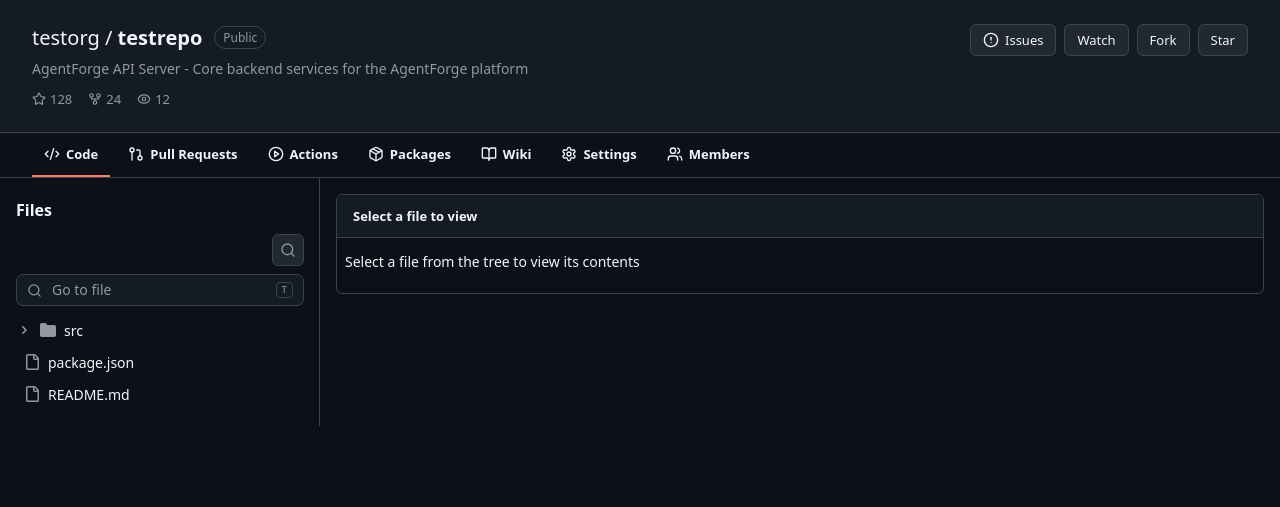
Test: RepositoryDetailPage - Code Tab › collapses expanded folders when clicked again
Check: the text "src" is shown, box [64,320,83,340]
Click the button "src" at (24, 330), box [16,314,304,346]
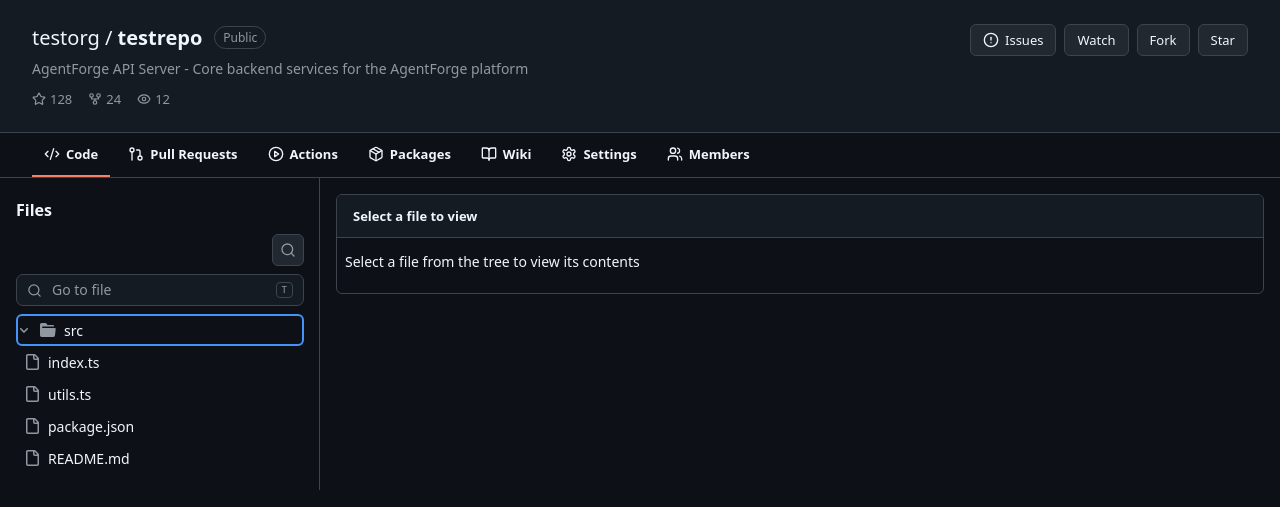
Check: the text "index.ts" is shown, box [48,352,99,372]
Click the button "src" at (24, 330), box [16,314,304,346]
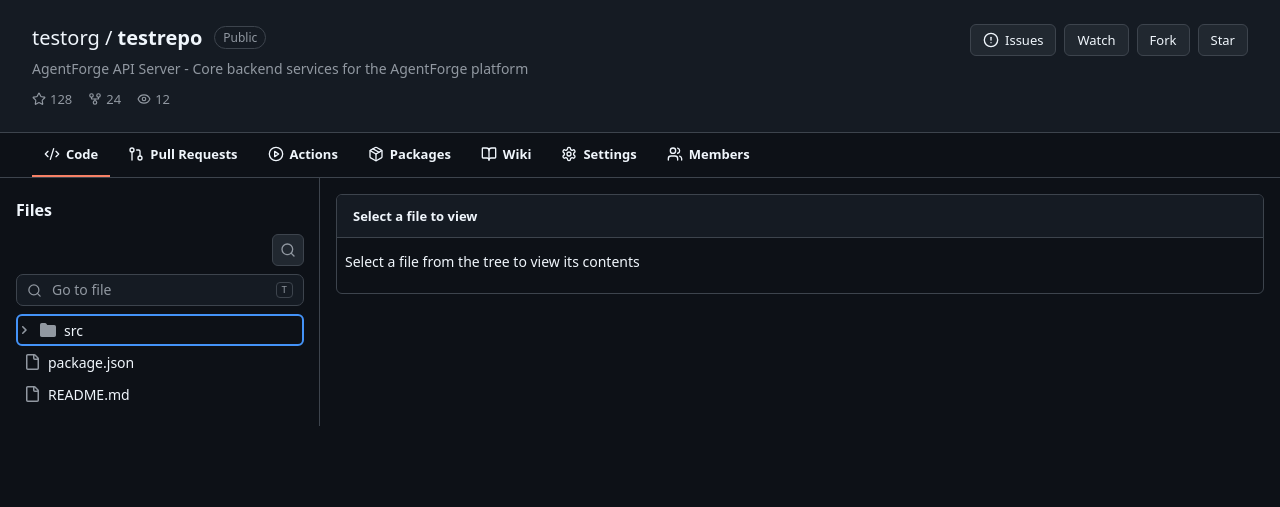
Check: the button "index.ts" is gone
